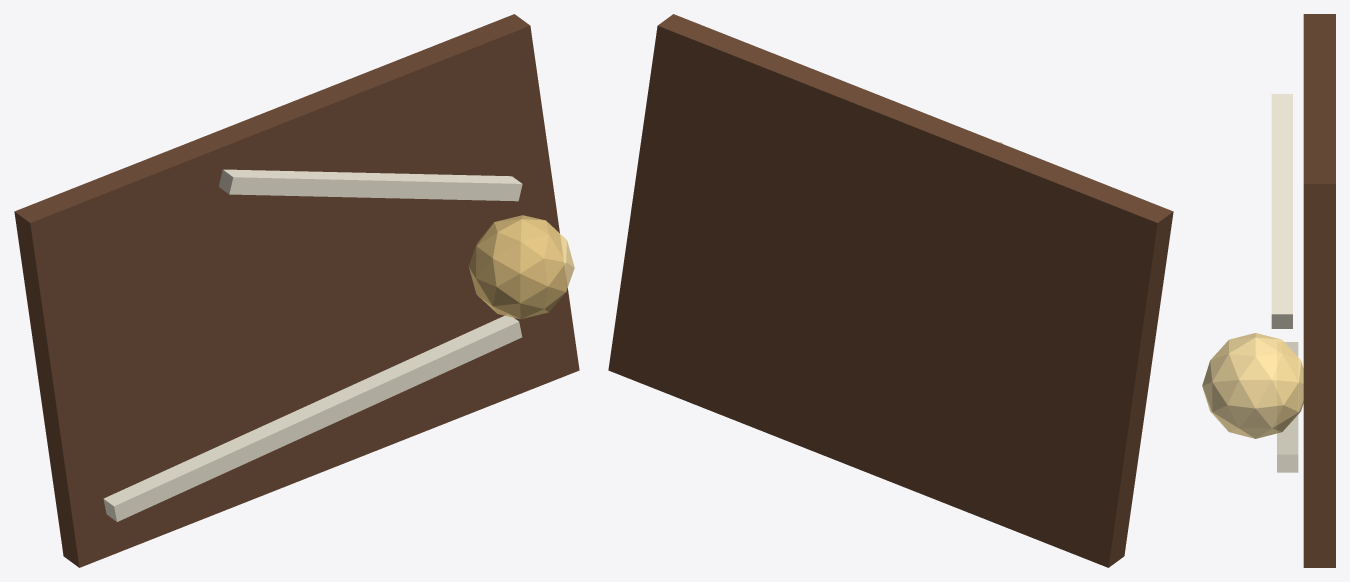
Rendered from 02_world_prop_polish.glb.
The picture shows the model from 3 angles, left to right: view 1: azimuth 30°, elevation 25°; view 2: azimuth 150°, elevation 25°; view 3: azimuth 270°, elevation 25°; orthographic projection.
Visible parts, largest first — view 1: object_overlay_plate, edge_wear_a, glow_socket, edge_wear_b; view 2: object_overlay_plate; view 3: object_overlay_plate, glow_socket, edge_wear_b, edge_wear_a.
Part boxes in pixels (x1,y1,x2,y2): object_overlay_plate: (14, 14, 579, 567); edge_wear_a: (103, 314, 522, 521); glow_socket: (468, 215, 574, 319); edge_wear_b: (218, 169, 522, 201); object_overlay_plate: (608, 14, 1173, 567); object_overlay_plate: (1303, 14, 1335, 567); glow_socket: (1202, 333, 1303, 438); edge_wear_b: (1271, 94, 1292, 328); edge_wear_a: (1277, 342, 1298, 472).
Bounding box in the file's own units: 1.2 × 0.8993 × 0.25.
